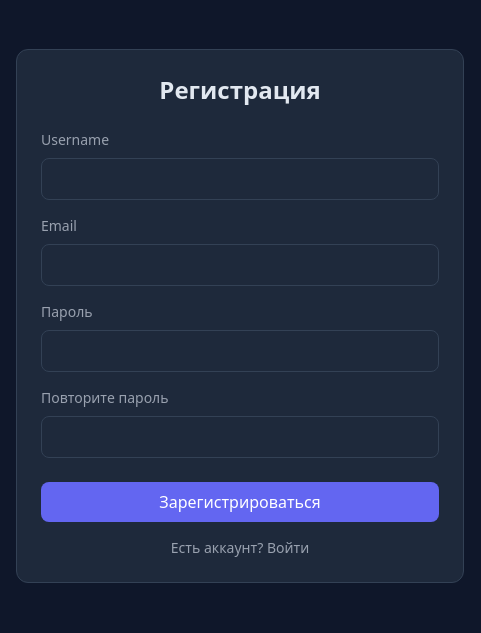
Test case: RegisterPage › shows error when password is too short
In the field below "Username": (240, 179) left=41, top=158, right=439, bottom=200, type "newuser"
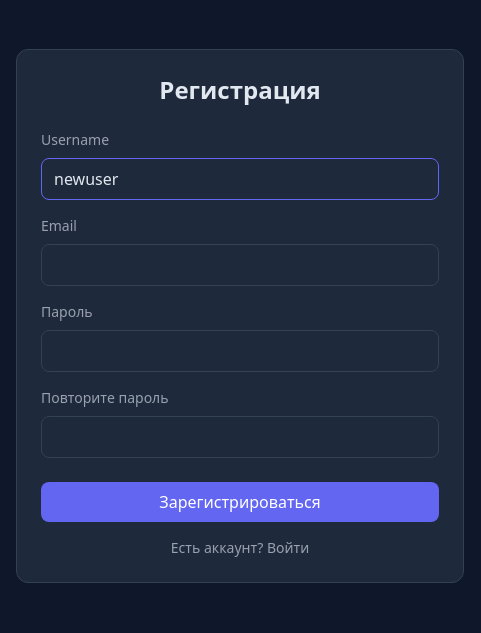
In the field below "Email": (240, 265) left=41, top=244, right=439, bottom=286, type "e@e.com"
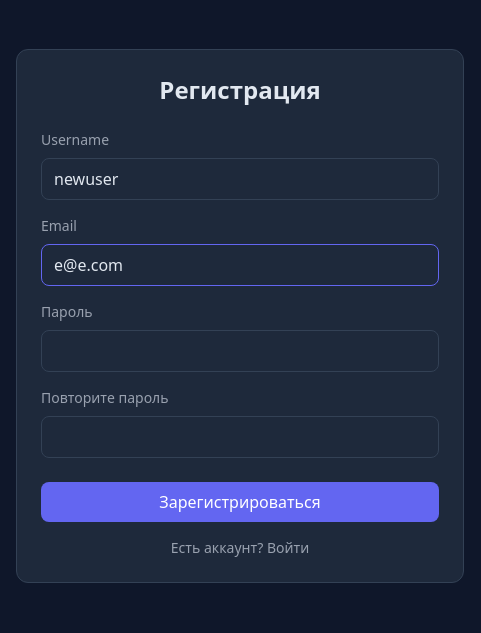
In the 1st password field: (240, 351) left=41, top=330, right=439, bottom=372, type "short"
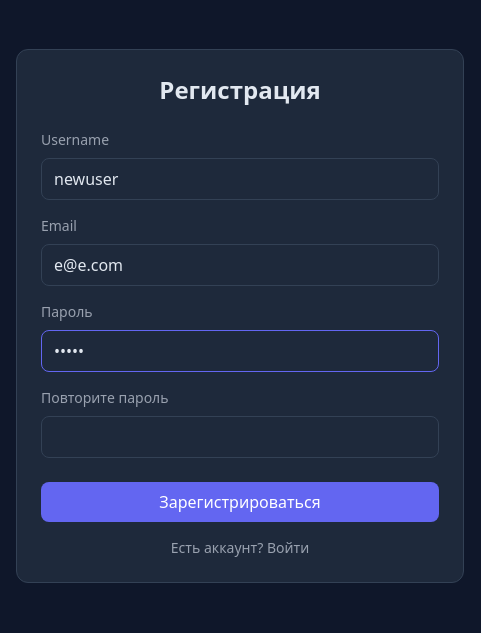
In the password field below "Повторите пароль": (240, 437) left=41, top=416, right=439, bottom=458, type "short"
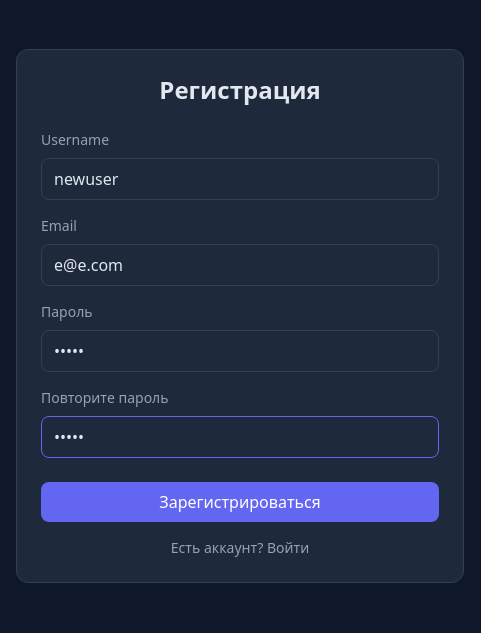
Click the button "Зарегистрироваться": (240, 502) left=41, top=482, right=439, bottom=522
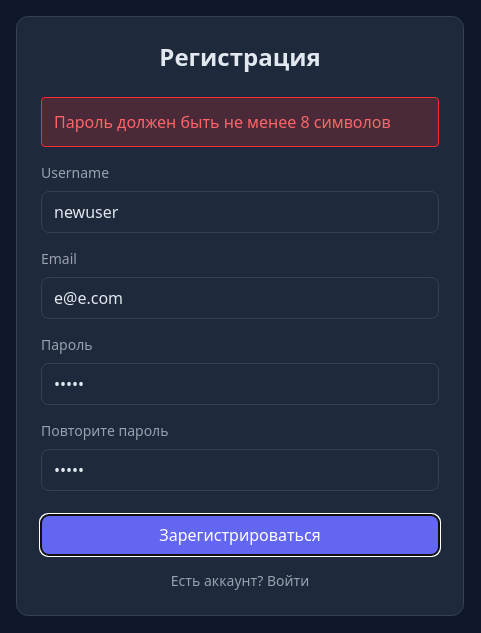
Check: the text "Пароль должен быть не менее 8 символов" is shown, box left=41, top=97, right=439, bottom=147
